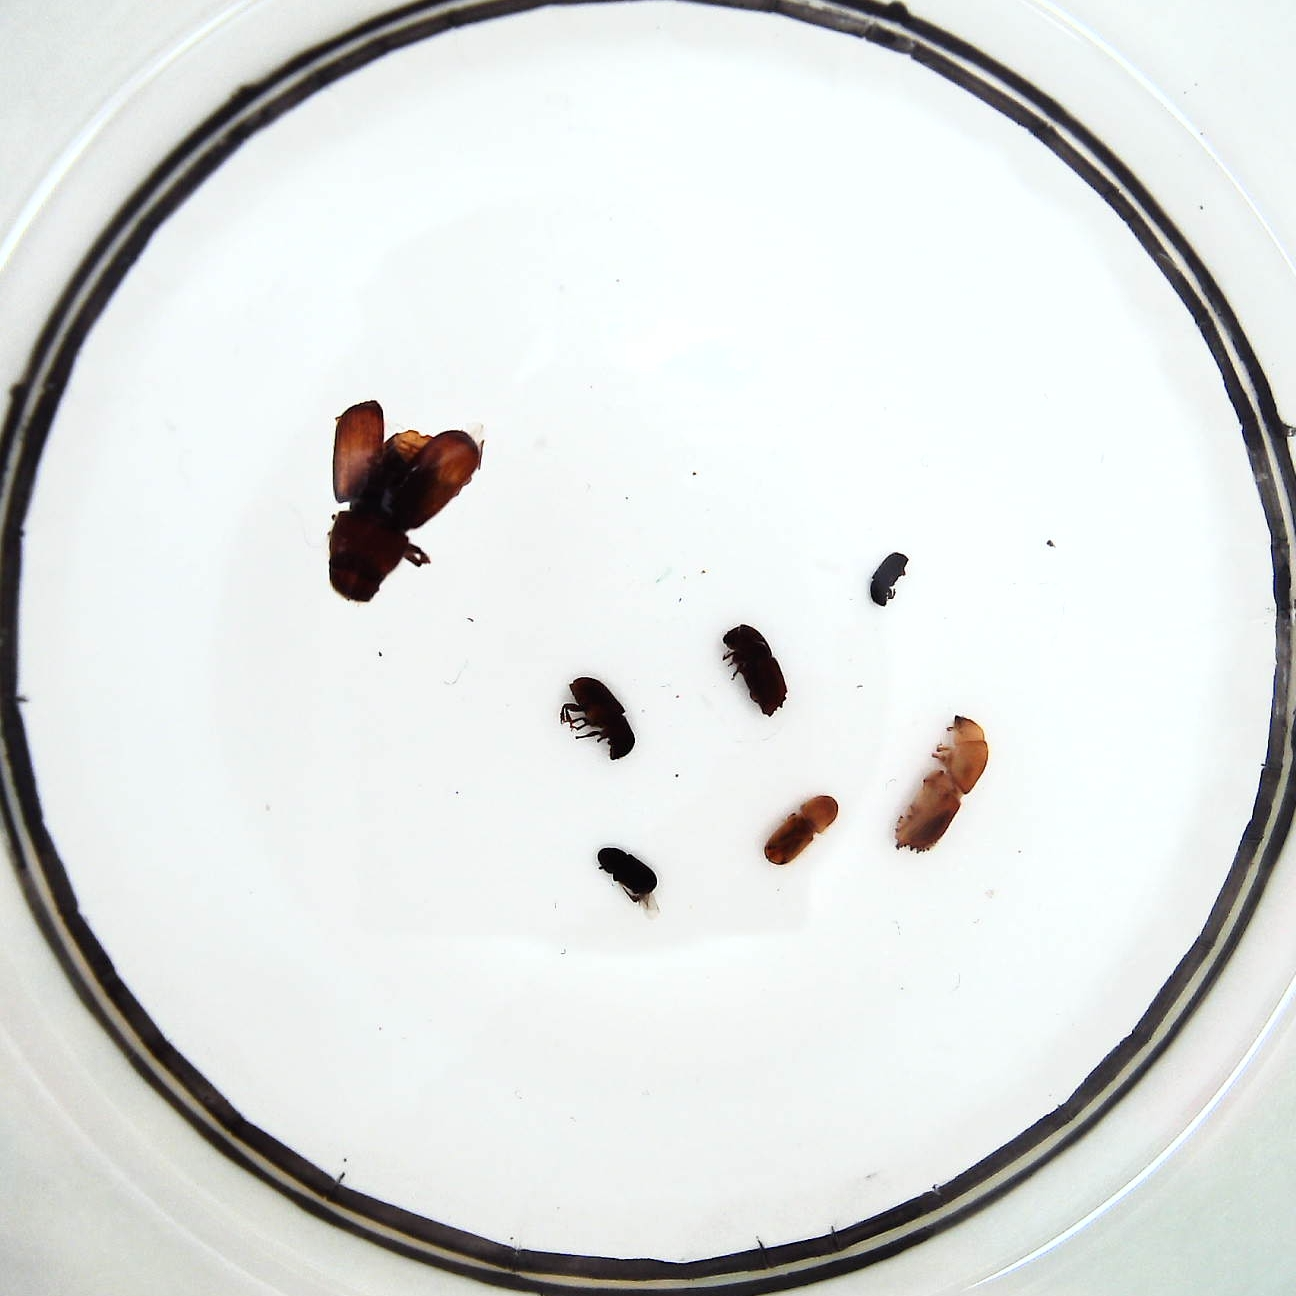Boerner: (892, 713, 987, 855)
Leconte: (328, 399, 482, 605)
Linnaeus: (723, 622, 787, 716)
acuminatus: (765, 792, 836, 862)
armandi: (560, 676, 633, 761)
coleoptera: (601, 844, 657, 901), (870, 555, 909, 608)
